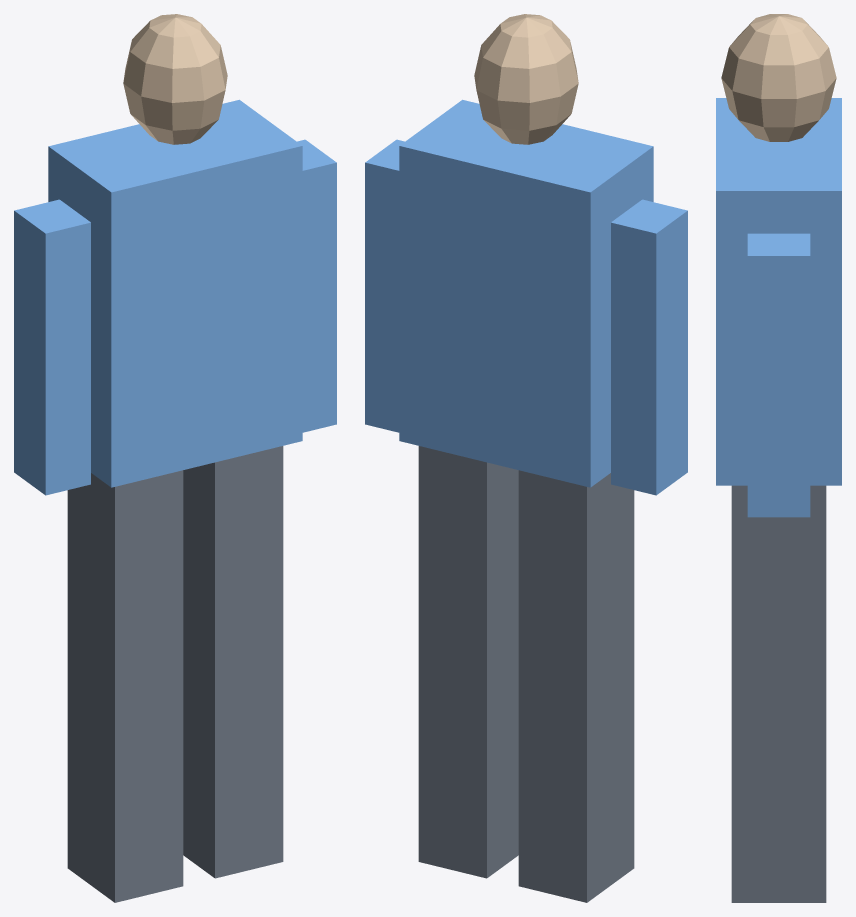
The model's file is synth_person.glb.
3 views of the same model, side by side, from view 1: azimuth 30°, elevation 25°; view 2: azimuth 150°, elevation 25°; view 3: azimuth 270°, elevation 25° (orthographic).
Bounding box in the file's own units: 0.64 × 1.78 × 0.24.
